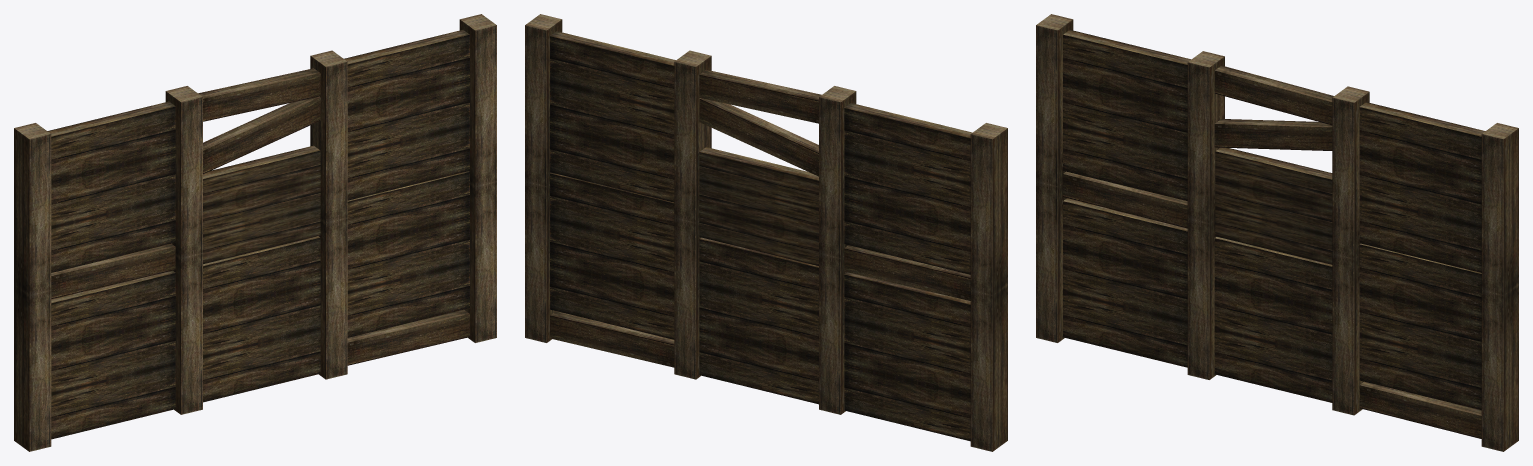
Rendered from general_obj_cliffgate_wall03.fbx.
The picture shows the model from 3 angles, left to right: view 1: azimuth 30°, elevation 25°; view 2: azimuth 150°, elevation 25°; view 3: azimuth 330°, elevation 25°; orthographic projection.
Visible parts, largest first — view 1: Sphere01; view 2: Sphere01; view 3: Sphere01.
Boxes of the visible parts, bbox=[...] form: Sphere01: bbox=[14, 14, 496, 451]; Sphere01: bbox=[525, 14, 1007, 451]; Sphere01: bbox=[1036, 14, 1518, 451].
Bounding box in the file's own units: 12.69 × 8.11 × 0.7212.
